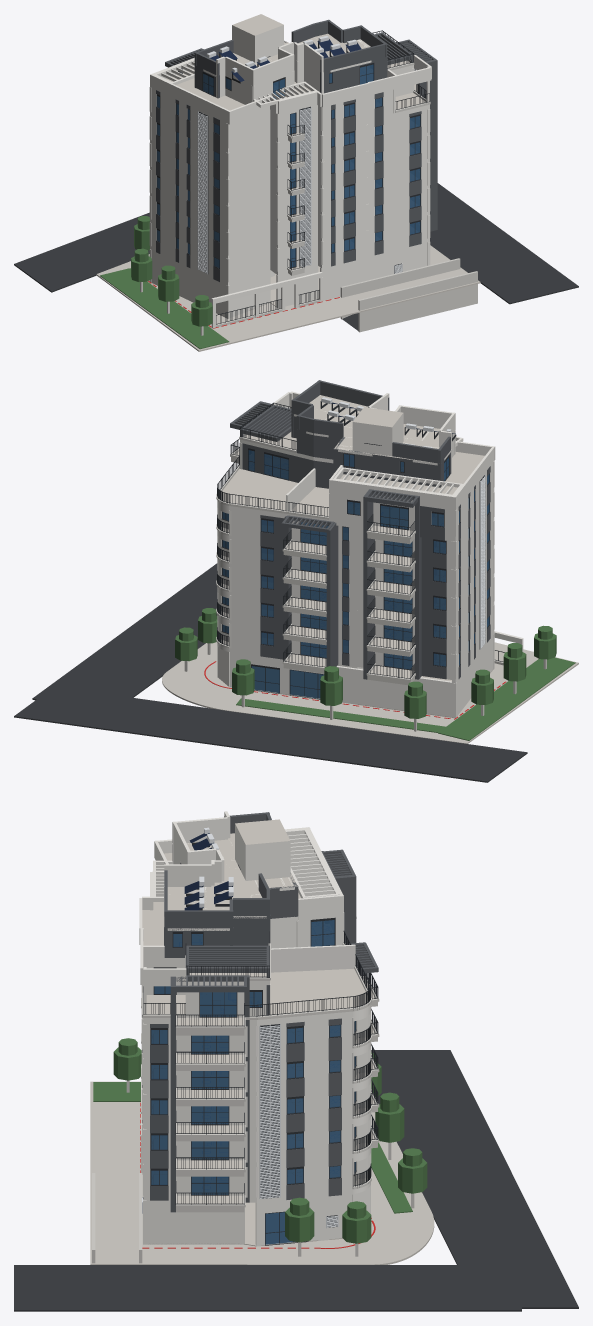
Rendered from pines48_model.obj.
3 renders of one model, top to bottom at view 1: azimuth 30°, elevation 25°; view 2: azimuth 150°, elevation 25°; view 3: azimuth 270°, elevation 25°, orthographic. The views are drawn at different scales.
Visible parts, largest first — view 1: 1_floors_1_to_5__mat_D_white_plaster, 0_site_and_ground__mat_road_asphalt, 0_site_and_ground__mat_D_white_plaster, 1_floors_1_to_5__mat_B_gray_plaster, 3_floor_7_penthouse__mat_D_white_plaster, 2_floor_6_penthouse__mat_D_white_plaster, 0_site_and_ground__mat_concrete_curb, 0_site_and_ground__mat_site_ground, 0_site_and_ground__mat_landscape_green, 1_floors_1_to_5__mat_alu_frame, 4_upper_roof_and_tower__mat_D_white_plaster, 1_floors_1_to_5__mat_C_white_louvers (+13 smaller); view 2: 0_site_and_ground__mat_road_asphalt, 1_floors_1_to_5__mat_D_white_plaster, 1_floors_1_to_5__mat_B_gray_plaster, 0_site_and_ground__mat_landscape_green, 0_site_and_ground__mat_site_ground, 1_floors_1_to_5__mat_window_glass, 0_site_and_ground__mat_D_white_plaster, 3_floor_7_penthouse__mat_B_gray_plaster, 3_floor_7_penthouse__mat_D_white_plaster, 1_floors_1_to_5__mat_A_iron_railing, 2_floor_6_penthouse__mat_D_white_plaster, 1_floors_1_to_5__mat_concrete_curb (+14 smaller); view 3: 0_site_and_ground__mat_road_asphalt, 0_site_and_ground__mat_site_ground, 1_floors_1_to_5__mat_D_white_plaster, 1_floors_1_to_5__mat_B_gray_plaster, 0_site_and_ground__mat_landscape_green, 3_floor_7_penthouse__mat_B_gray_plaster, 2_floor_6_penthouse__mat_D_white_plaster, 1_floors_1_to_5__mat_window_glass, 0_site_and_ground__mat_D_white_plaster, 3_floor_7_penthouse__mat_D_white_plaster, 4_upper_roof_and_tower__mat_D_white_plaster, 1_floors_1_to_5__mat_alu_frame (+16 smaller).
Part boxes in pixels (x1,y1,x2,y2): 1_floors_1_to_5__mat_D_white_plaster: (149,109,430,285); 0_site_and_ground__mat_road_asphalt: (14,183,578,330); 0_site_and_ground__mat_D_white_plaster: (149,242,430,328); 1_floors_1_to_5__mat_B_gray_plaster: (156,48,437,281); 3_floor_7_penthouse__mat_D_white_plaster: (150,58,413,124); 2_floor_6_penthouse__mat_D_white_plaster: (149,55,431,152); 0_site_and_ground__mat_concrete_curb: (140,258,477,335); 0_site_and_ground__mat_site_ground: (96,245,480,351); 0_site_and_ground__mat_landscape_green: (100,216,229,349); 1_floors_1_to_5__mat_alu_frame: (156,106,421,273); 4_upper_roof_and_tower__mat_D_white_plaster: (203,25,371,87); 1_floors_1_to_5__mat_C_white_louvers: (197,107,311,274); 0_site_and_ground__mat_road_asphalt: (14,563,527,782); 1_floors_1_to_5__mat_D_white_plaster: (217,492,494,683); 1_floors_1_to_5__mat_B_gray_plaster: (259,401,490,679); 0_site_and_ground__mat_landscape_green: (175,608,575,740); 0_site_and_ground__mat_site_ground: (162,642,578,743); 1_floors_1_to_5__mat_window_glass: (222,503,489,669); 0_site_and_ground__mat_D_white_plaster: (217,631,523,718); 3_floor_7_penthouse__mat_B_gray_plaster: (230,402,450,507); 3_floor_7_penthouse__mat_D_white_plaster: (240,430,495,510); 1_floors_1_to_5__mat_A_iron_railing: (217,474,415,679); 2_floor_6_penthouse__mat_D_white_plaster: (217,391,494,541); 1_floors_1_to_5__mat_concrete_curb: (216,524,415,685); 0_site_and_ground__mat_road_asphalt: (14,1050,578,1311); 0_site_and_ground__mat_site_ground: (90,1081,434,1264); 1_floors_1_to_5__mat_D_white_plaster: (141,985,371,1202); 1_floors_1_to_5__mat_B_gray_plaster: (142,851,366,1212); 0_site_and_ground__mat_landscape_green: (93,1038,427,1243); 3_floor_7_penthouse__mat_B_gray_plaster: (164,849,355,992); 2_floor_6_penthouse__mat_D_white_plaster: (140,912,370,1025); 1_floors_1_to_5__mat_window_glass: (151,1021,355,1194); 0_site_and_ground__mat_D_white_plaster: (141,1064,370,1246); 3_floor_7_penthouse__mat_D_white_plaster: (139,827,343,984); 4_upper_roof_and_tower__mat_D_white_plaster: (164,811,294,930); 1_floors_1_to_5__mat_alu_frame: (142,1015,359,1198).
Size of the model in its own units: 48.5 by 31.17 by 44.5.
